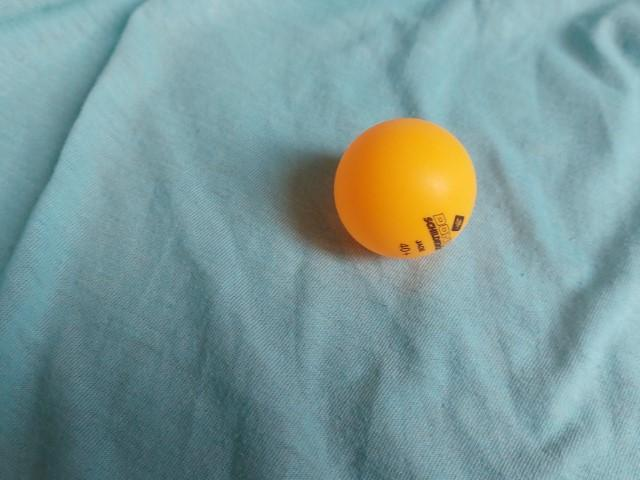oball: (329, 111, 486, 264)
